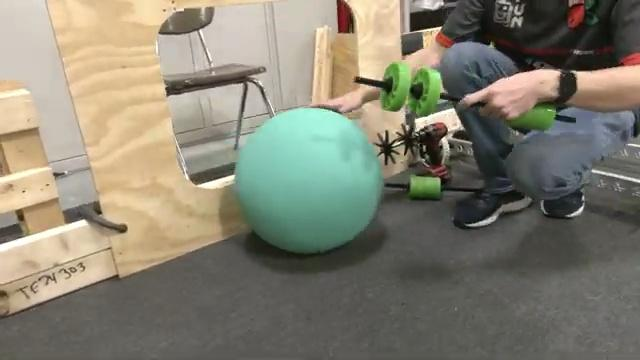ALGAE: (231, 105, 384, 255)
